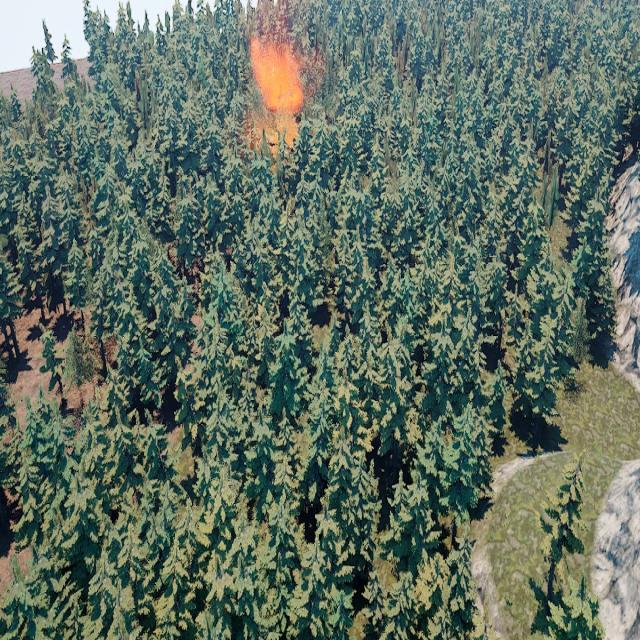fire: (252, 34, 305, 118)
